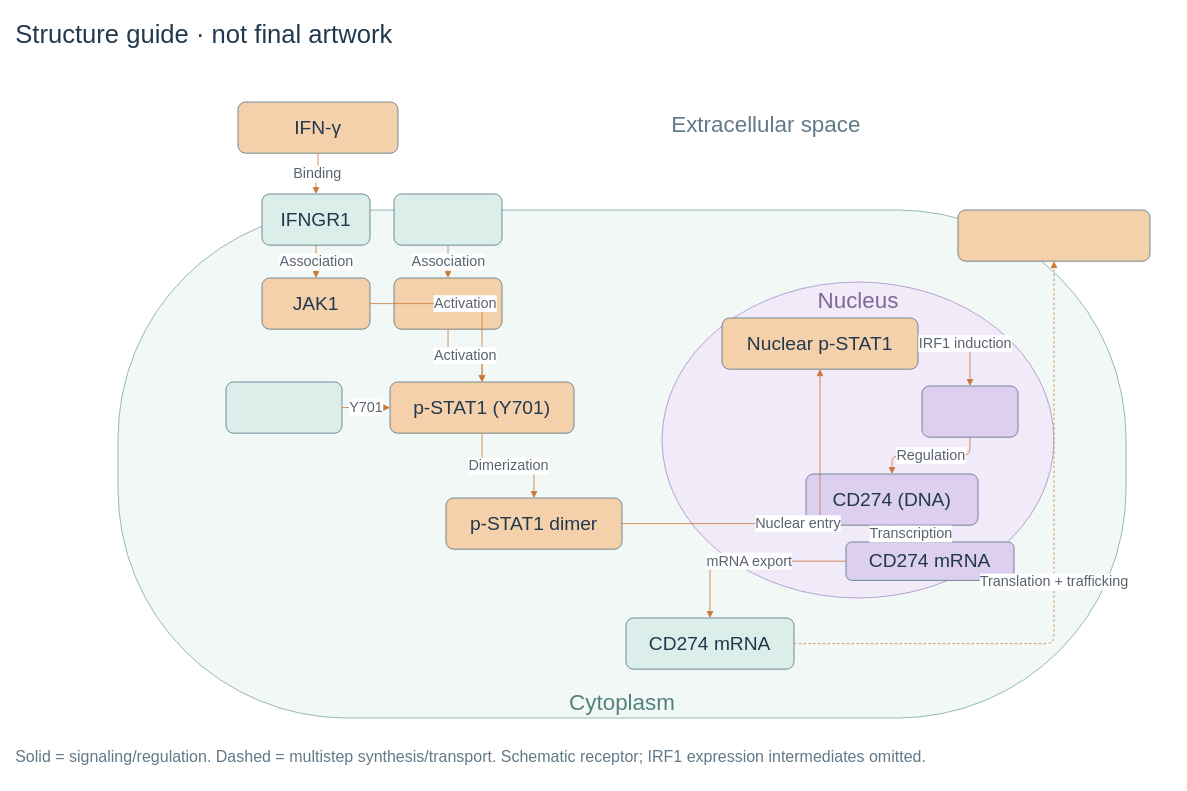
Some shapes in this 1187 by 791 pixel diagram are drawn without their labels. The shapes that lost their labels are listed below. From the top down, each one's centre as x and y in pixels, then its label:
the point at 447,219: IFNGR2
the point at 1053,235: Surface PD-L1 ↑
the point at 447,303: JAK2
the point at 283,407: STAT1
the point at 969,411: IRF1
